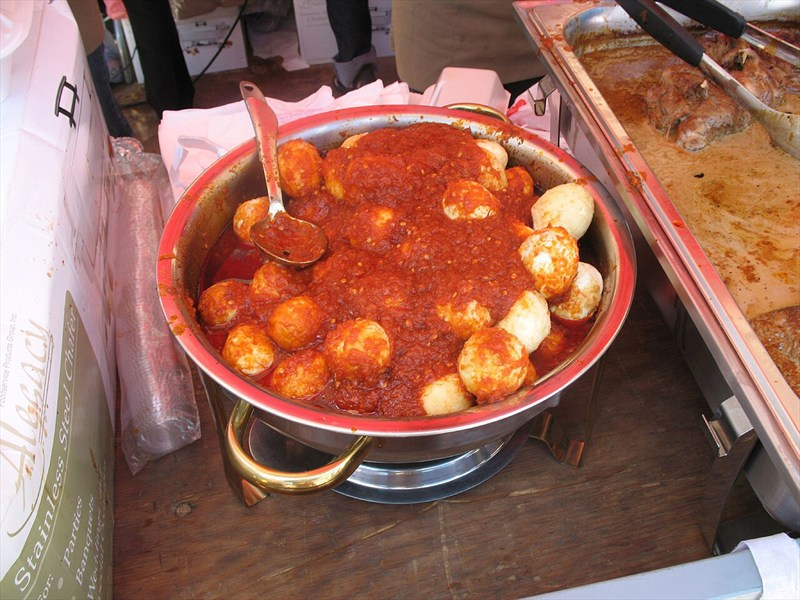Telur Balado: (167, 74, 713, 486)
